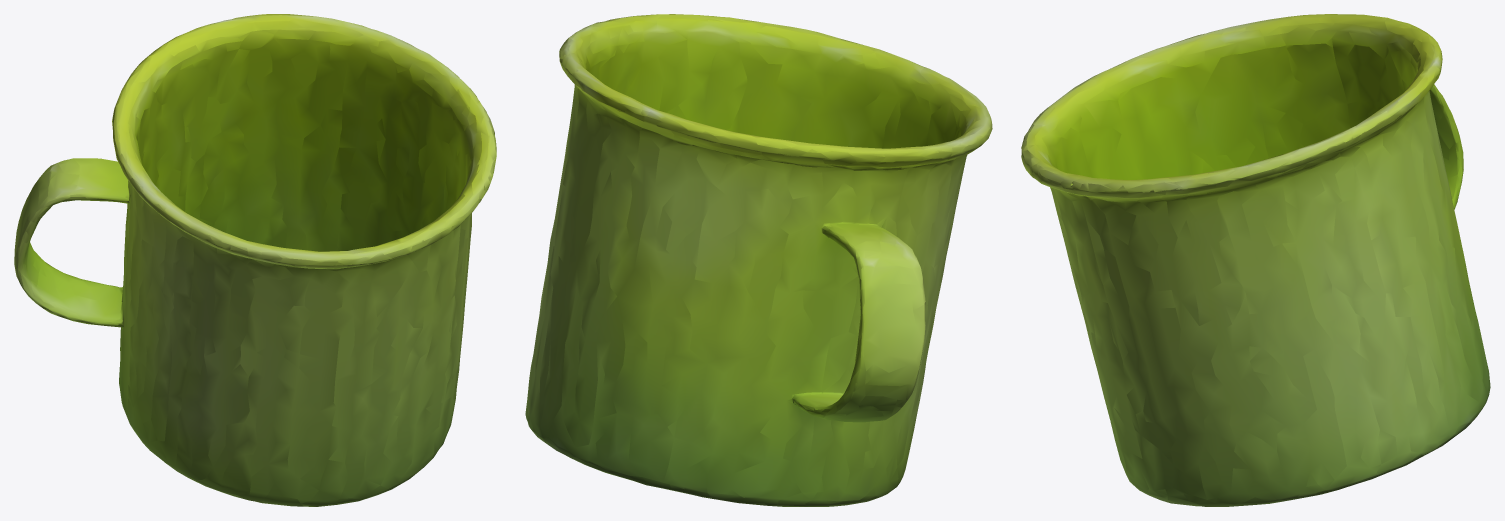
Rendered from 0011_mask_012_green_cup.glb.
3 views of the same model, side by side, from view 1: azimuth 30°, elevation 25°; view 2: azimuth 150°, elevation 25°; view 3: azimuth 270°, elevation 25° (orthographic). The views are drawn at different scales.
Parts seen in each view (by area): view 1: mask_012_object; view 2: mask_012_object; view 3: mask_012_object.
Part boxes in pixels (<box>): mask_012_object: <box>14,14,496,506</box>; mask_012_object: <box>525,14,992,506</box>; mask_012_object: <box>1021,14,1490,506</box>.
Bounding box in the file's own units: 0.1598 × 0.1548 × 0.1601.
